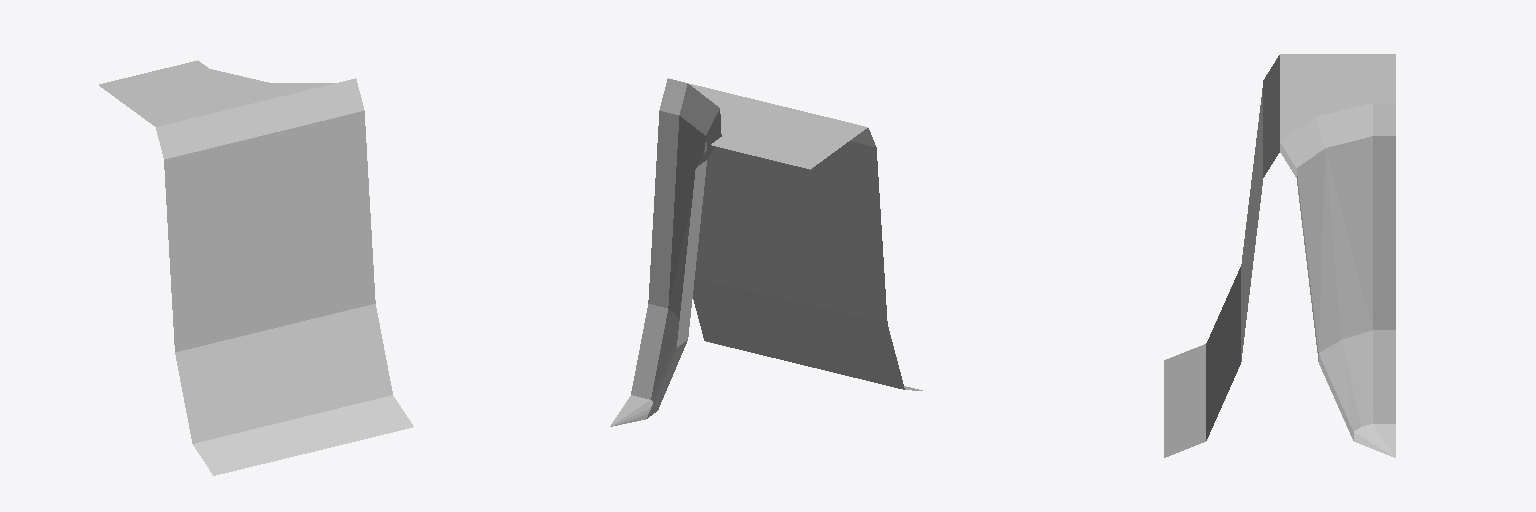
The model's file is wall_08.obj.
3 renders of one model, left to right at view 1: azimuth 30°, elevation 25°; view 2: azimuth 150°, elevation 25°; view 3: azimuth 270°, elevation 25°, orthographic.
Visible parts, largest first — view 1: wall_08_Cave_Wall_Inner.017; view 2: wall_08_Cave_Wall_Inner.017; view 3: wall_08_Cave_Wall_Inner.017.
Part boxes in pixels (x1,y1,x2,y2): wall_08_Cave_Wall_Inner.017: (99,60,413,475); wall_08_Cave_Wall_Inner.017: (610,78,922,426); wall_08_Cave_Wall_Inner.017: (1164,54,1395,457).
Bounding box in the file's own units: 1 × 1.46 × 1.